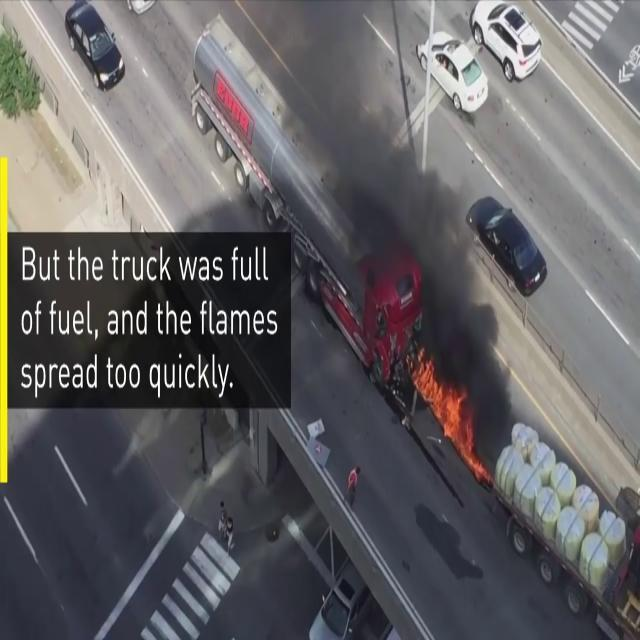Fire: (412, 350, 476, 462)
Smoke: (283, 0, 417, 216), (396, 193, 497, 407)
